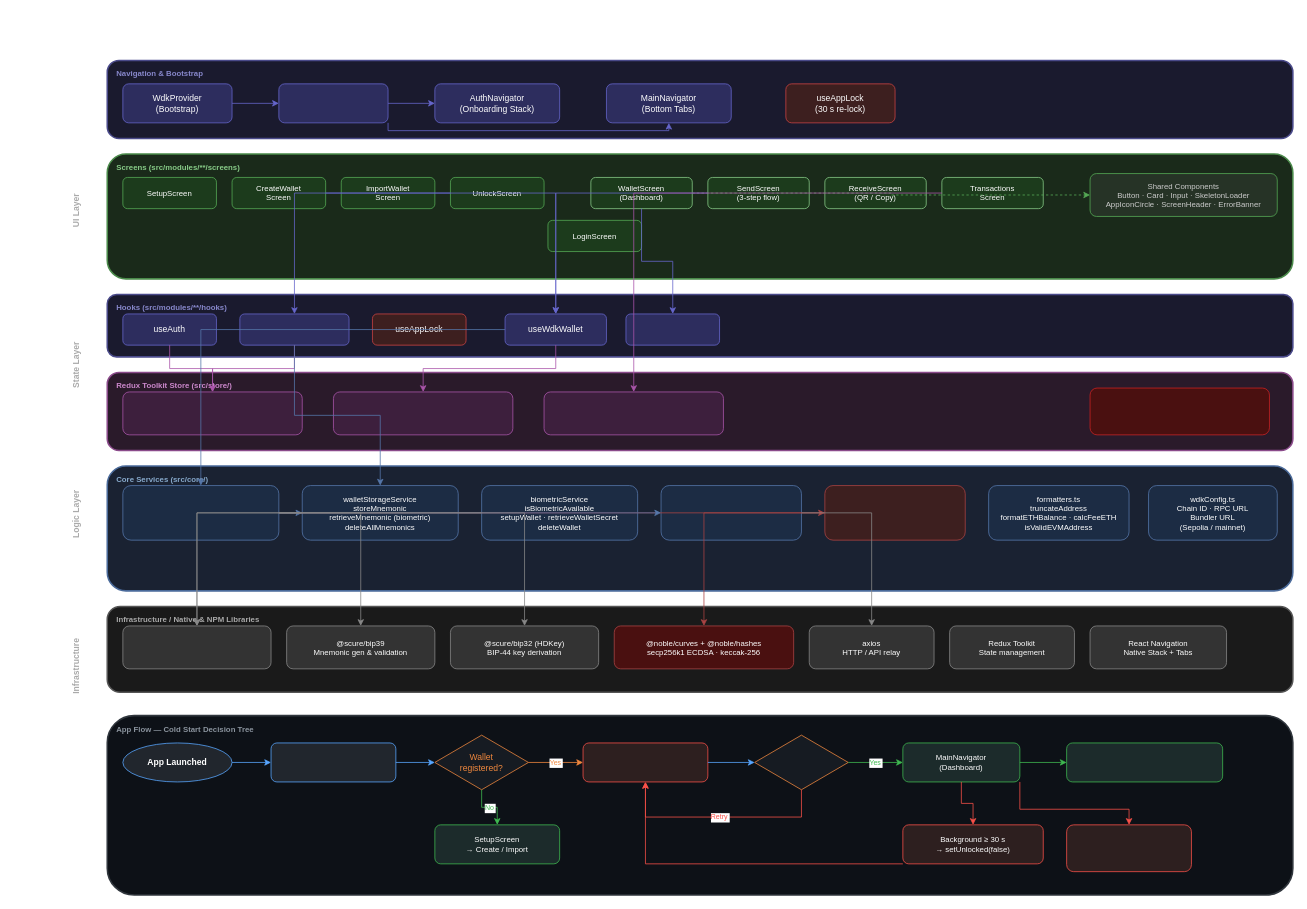
Some shapes in this 1307 by 909 pixel diagram are drawn without their labels. Here are the shapes that lost their labels. From the top down, the centre of each, then its label:
At point 333,103: "RootNavigator (Auth Gate)".
At point 294,329: "useBiometricAuth".
At point 672,329: "useWallet".
At point 212,413: "authSlice isAuthenticated · isUnlocked isInitialised · biometricEnabled".
At point 423,413: "walletSlice wallets[] · activeWalletId wallet (balance/tokens)".
At point 633,413: "transactionsSlice transactions[] · page · hasMore isLoading · error".
At point 1179,411: "⚠ Redux NEVER stores: mnemonics · private keys auth tokens · PIN codes".
At point 200,512: "wdkService createWallet · importWallet signAndSendTransaction validateMnemonic".
At point 730,512: "blockchainApi getBalance · getNonce estimateGas broadcastRawTx".
At point 894,512: "evmSigner signEvmTransaction EIP-155 RLP encoder secp256k1 ECDSA".
At point 196,647: "react-native-keychain OS Keychain / Biometrics".
At point 333,762: "WdkProvider reads Keychain registry".
At point 645,762: "UnlockScreen (biometric fires auto)".
At point 801,762: "Biometric Success?".
At point 1144,762: "Send Flow Biometric → Sign → Broadcast".
At point 1128,848: "Logout deleteAllMnemonics() → SetupScreen".
